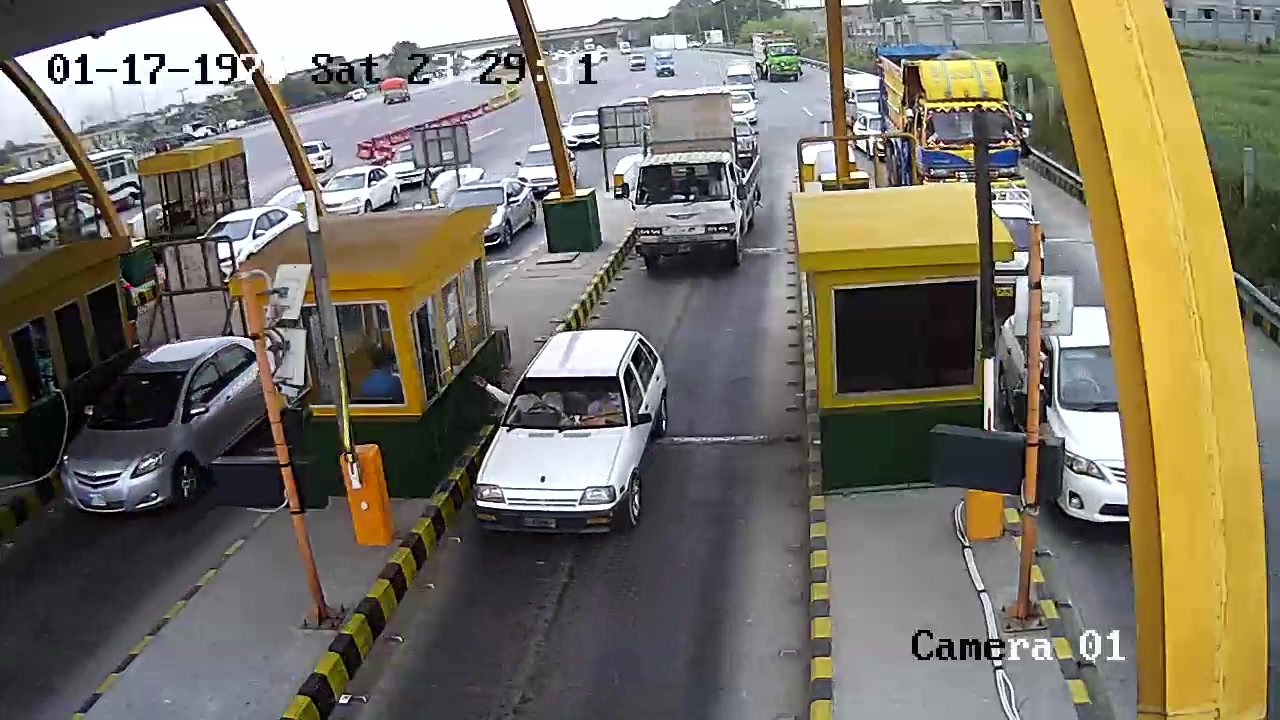F1: (460, 318, 703, 557)
